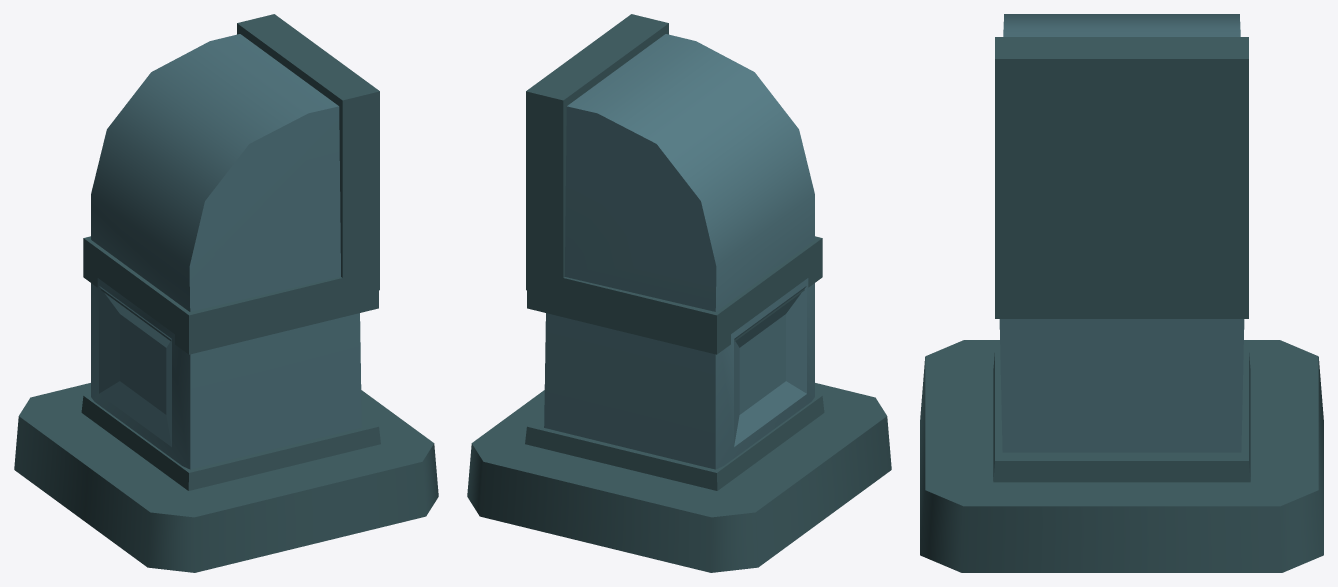
Rendered from Vent_2_D_3.fbx.
3 views of the same model, side by side, from view 1: azimuth 30°, elevation 25°; view 2: azimuth 150°, elevation 25°; view 3: azimuth 270°, elevation 25° (orthographic). The views are drawn at different scales.
Visible parts, largest first — view 1: Vent_2_D_3; view 2: Vent_2_D_3; view 3: Vent_2_D_3.
Boxes of the visible parts, <box> form: Vent_2_D_3: <box>14,14,438,572</box>; Vent_2_D_3: <box>467,14,891,572</box>; Vent_2_D_3: <box>920,14,1323,572</box>.
Size of the model in its own units: 56.66 by 75.52 by 56.66.
